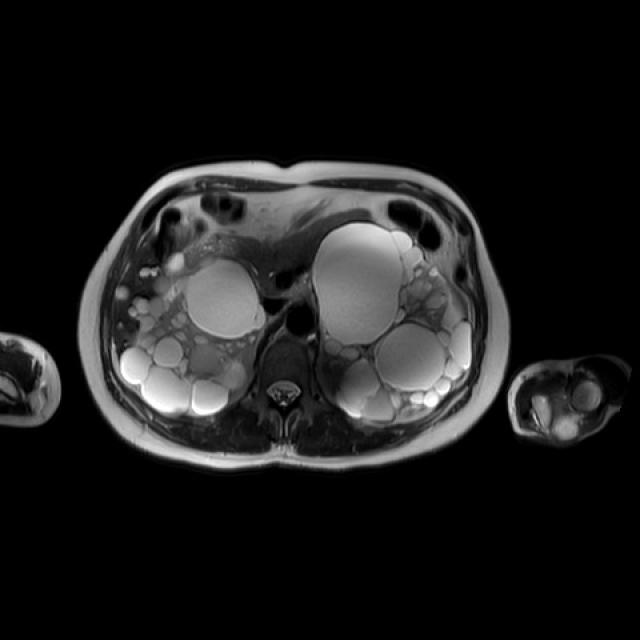sag: (122, 260, 265, 415)
sol: (311, 220, 469, 422)
